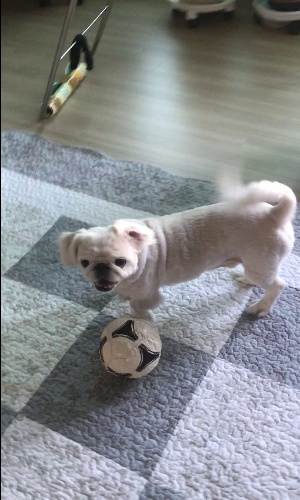ddubi: (55, 161, 296, 325)
